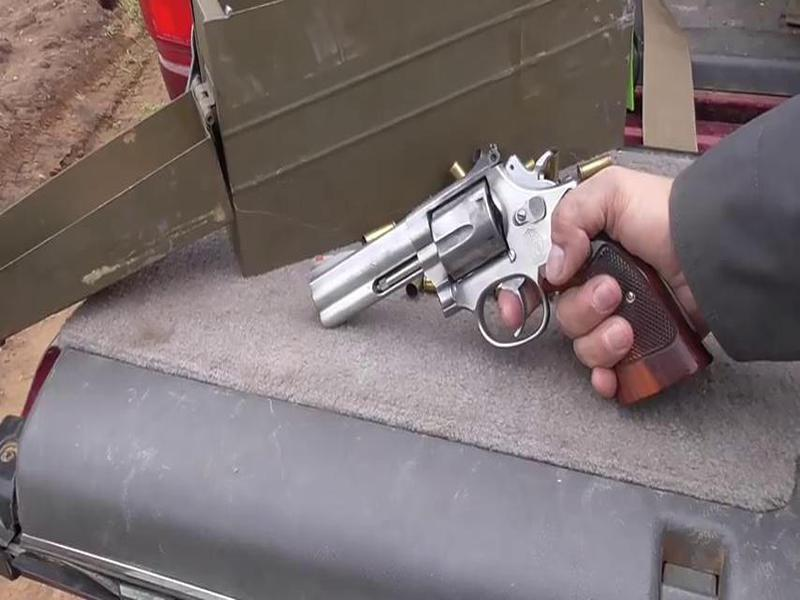Revolver: (310, 125, 741, 464)
